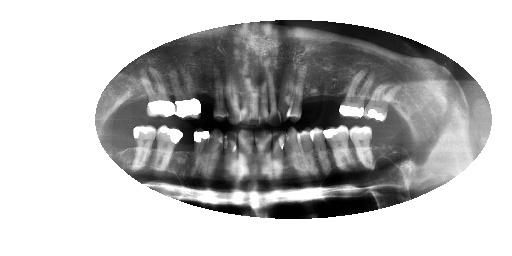i10decay: (267, 72, 282, 126)
i11healthy: (278, 63, 292, 122)
i12healthy: (286, 65, 306, 122)
i13loss: (302, 68, 315, 114)
i14loss: (315, 68, 335, 114)
i15healthy: (336, 68, 378, 119)
i16healthy: (363, 83, 403, 122)
i1loss: (120, 68, 147, 117)
i2healthy: (140, 67, 178, 117)
i3healthy: (176, 54, 201, 119)
i4loss: (202, 74, 215, 119)
i5decay: (212, 75, 231, 121)
i6healthy: (224, 74, 240, 124)
i7healthy: (240, 76, 250, 126)
i8healthy: (249, 75, 258, 127)
i9healthy: (258, 76, 270, 126)
u10decay: (271, 130, 285, 180)
u11healthy: (284, 126, 302, 181)
u12healthy: (298, 129, 317, 177)
u13healthy: (309, 124, 331, 180)
u14healthy: (321, 124, 354, 172)
u15healthy: (348, 122, 376, 171)
u16loss: (373, 126, 401, 167)
u1loss: (112, 123, 134, 162)
u2healthy: (129, 121, 156, 172)
u3healthy: (148, 124, 187, 175)
u4loss: (172, 130, 194, 175)
u5healthy: (193, 129, 211, 179)
u6healthy: (207, 128, 225, 183)
u7decay: (224, 130, 239, 182)
u8healthy: (239, 130, 255, 181)
u9healthy: (254, 130, 273, 181)
